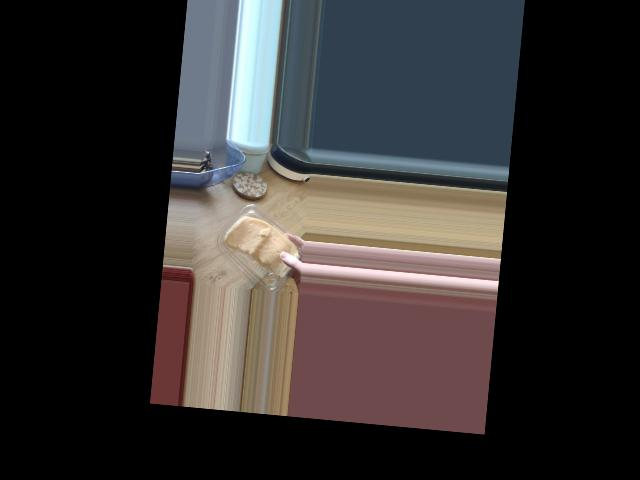cheese: (203, 193, 301, 291)
